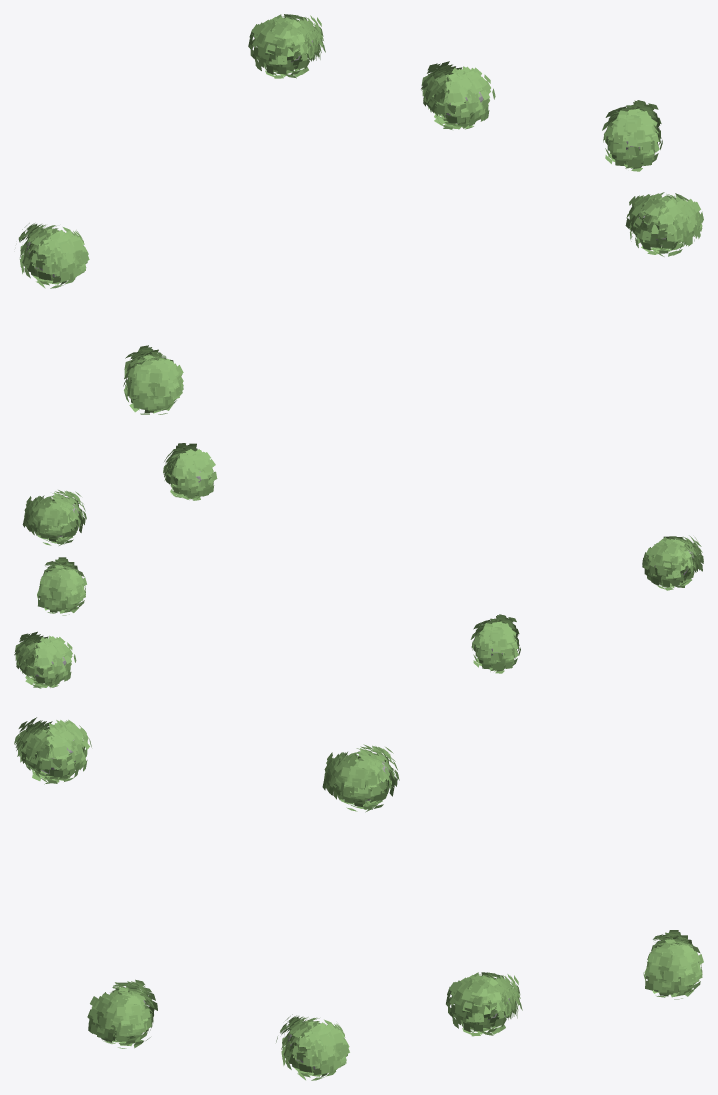
File: Shrubs.fbx
The picture shows the model from 3 angles, top to bottom: view 1: azimuth 30°, elevation 25°; view 2: azimuth 150°, elevation 25°; view 3: azimuth 270°, elevation 25°; orthographic projection. The views are drawn at different scales.
Parts seen in each view (by area): view 1: shrubPlane (×6); view 2: shrubPlane (×6); view 3: shrubPlane (×6).
Boxes of the visible parts, left/top/right/bottom form: shrubPlane (×6): left=18, top=14, right=703, bottom=414; shrubPlane (×6): left=14, top=443, right=703, bottom=688; shrubPlane (×6): left=14, top=717, right=703, bottom=1080.
Size of the model in its own units: 6.13 by 0.4871 by 5.48.
